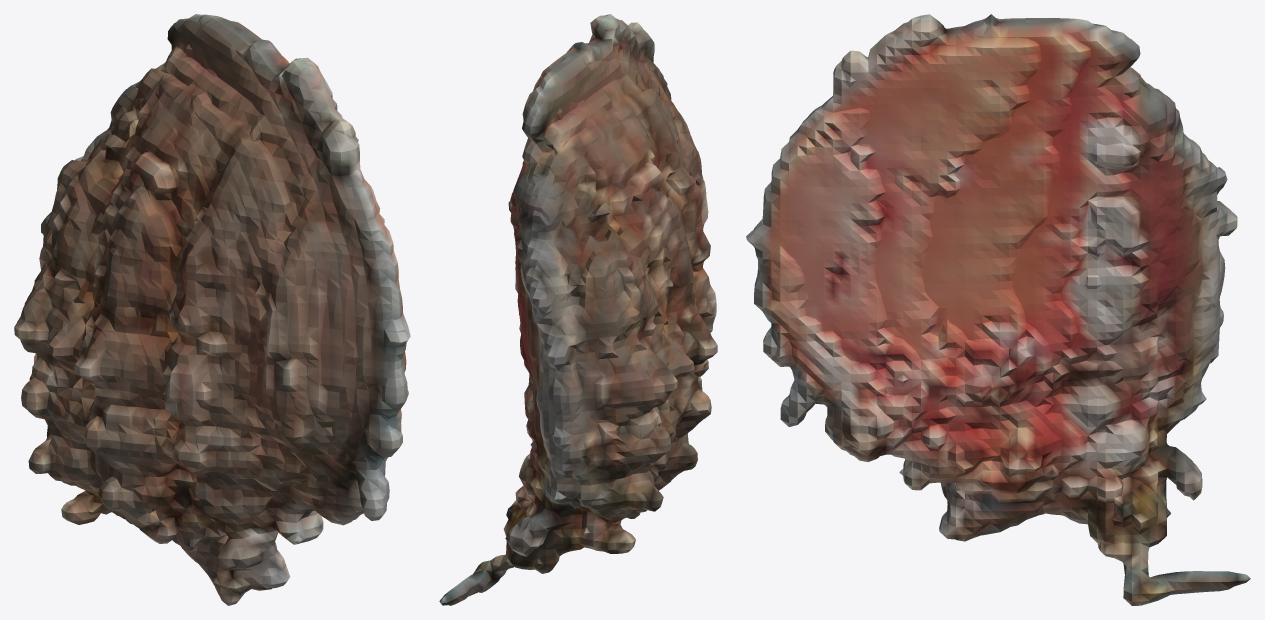
Rendered from mushroom.glb.
3 views of the same model, side by side, from view 1: azimuth 30°, elevation 25°; view 2: azimuth 150°, elevation 25°; view 3: azimuth 270°, elevation 25° (orthographic). The views are drawn at different scales.
Parts seen in each view (by area): view 1: geometry_0; view 2: geometry_0; view 3: geometry_0.
Boxes of the visible parts, x1,y1,x2,y2 form: geometry_0: (14, 14, 410, 605); geometry_0: (439, 14, 717, 605); geometry_0: (746, 14, 1250, 605).
Size of the model in its own units: 0.4032 by 0.9858 by 0.7865.
